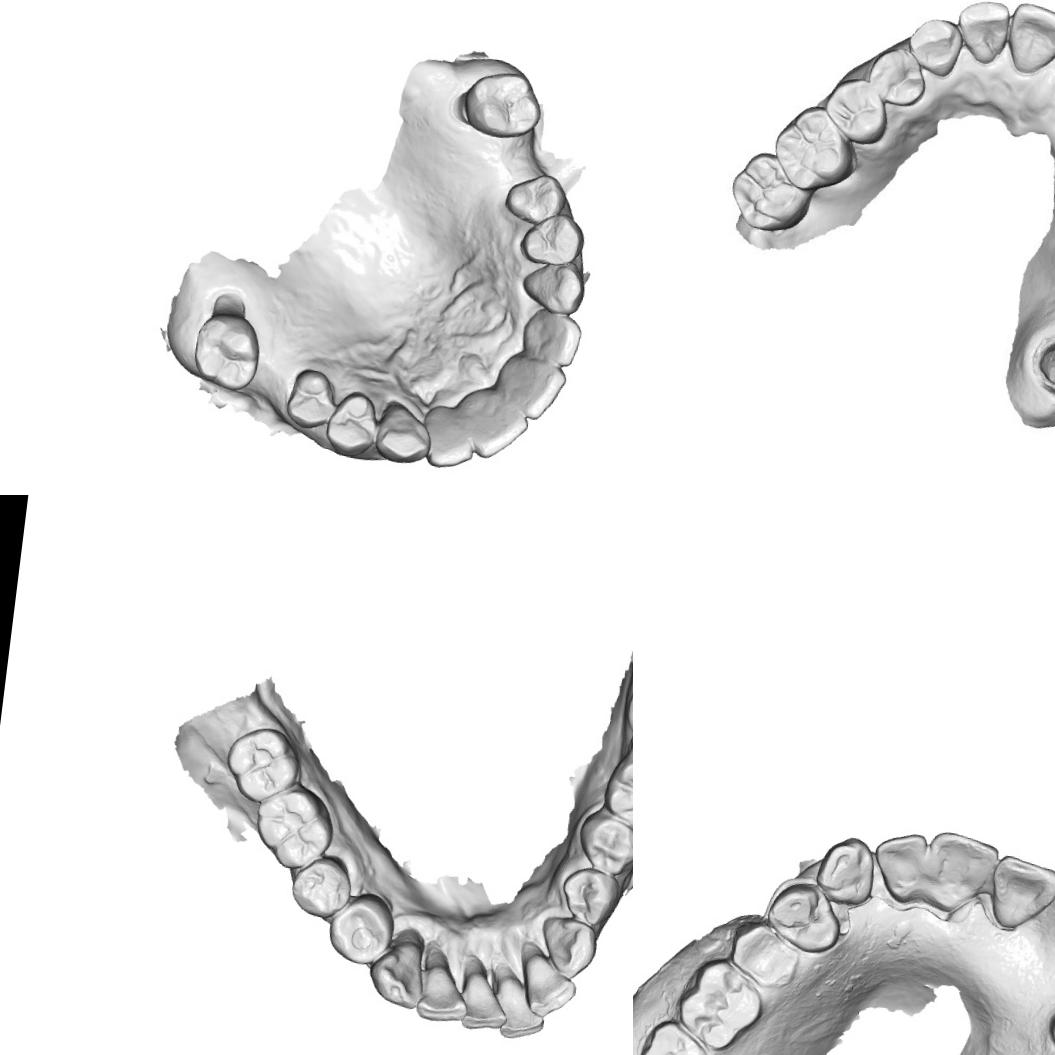canine: (812, 830, 880, 911), (364, 932, 431, 1013), (535, 912, 604, 980), (517, 254, 588, 318), (371, 398, 435, 466), (910, 20, 962, 75)
crown: (1037, 334, 1055, 396)
incisor: (922, 827, 1002, 916), (984, 854, 1055, 935), (461, 386, 534, 464), (513, 946, 581, 1020), (868, 828, 930, 906), (499, 356, 569, 424), (418, 402, 478, 475), (518, 305, 585, 370), (414, 958, 471, 1025), (494, 977, 551, 1043), (458, 968, 511, 1033), (959, 0, 1011, 60), (1007, 5, 1055, 70), (1041, 888, 1055, 947)
molar: (673, 953, 771, 1055), (185, 288, 267, 394), (249, 782, 338, 876), (221, 722, 305, 809), (458, 62, 546, 144), (776, 108, 858, 190), (730, 154, 811, 231), (633, 1014, 714, 1055), (599, 746, 633, 836)
premolar: (761, 874, 848, 958), (323, 890, 398, 970), (728, 918, 804, 990), (286, 852, 354, 924), (554, 864, 622, 932), (322, 387, 382, 460), (517, 208, 588, 269), (501, 168, 570, 228), (575, 809, 633, 880), (830, 80, 890, 142), (282, 367, 338, 432), (871, 46, 931, 105)
